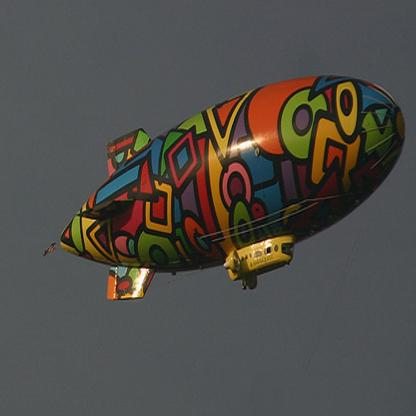Airship: (52, 72, 408, 303)
